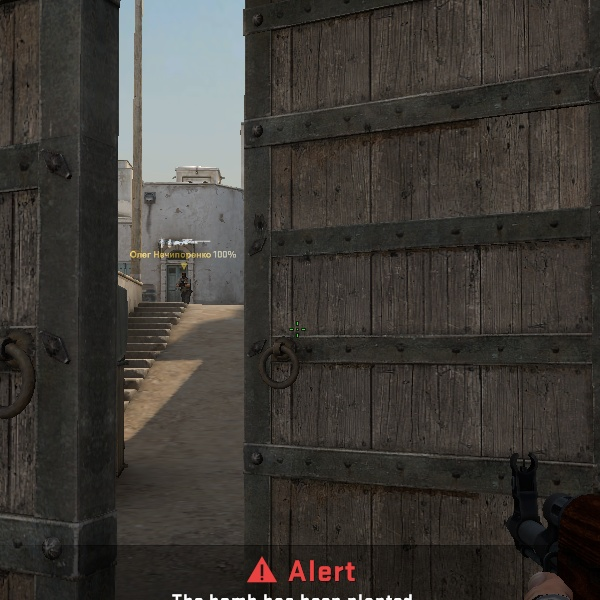t_body: (178, 272, 191, 303)
t_head: (181, 272, 186, 280)
